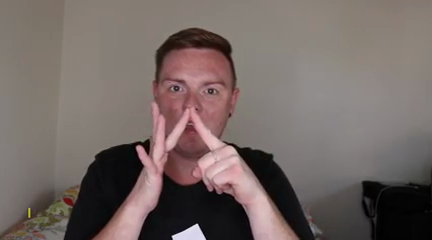I: (130, 100, 265, 214)
